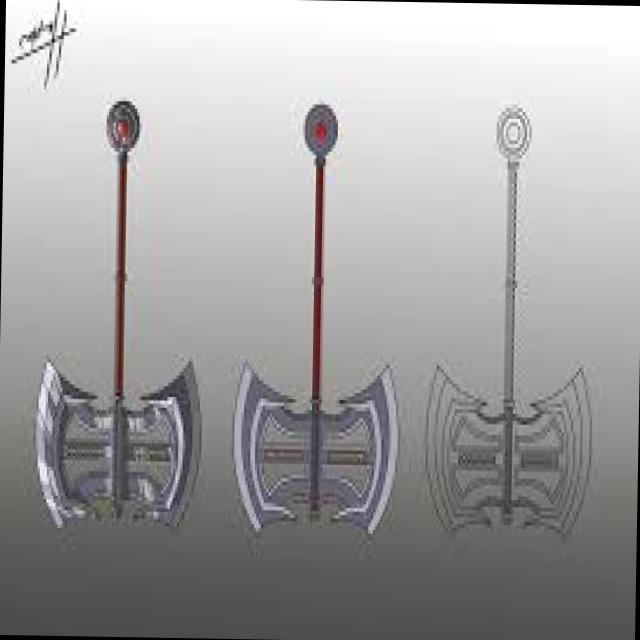Gun: (408, 81, 614, 568), (24, 89, 213, 548), (220, 96, 408, 553)
